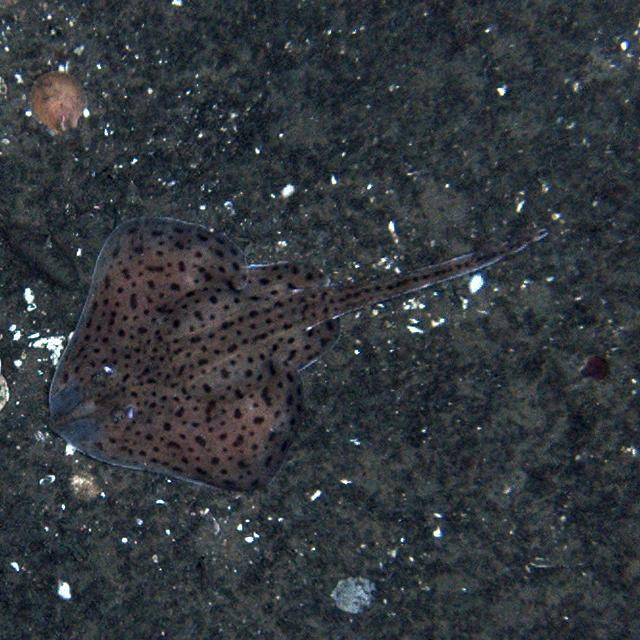skate: (58, 209, 556, 495)
